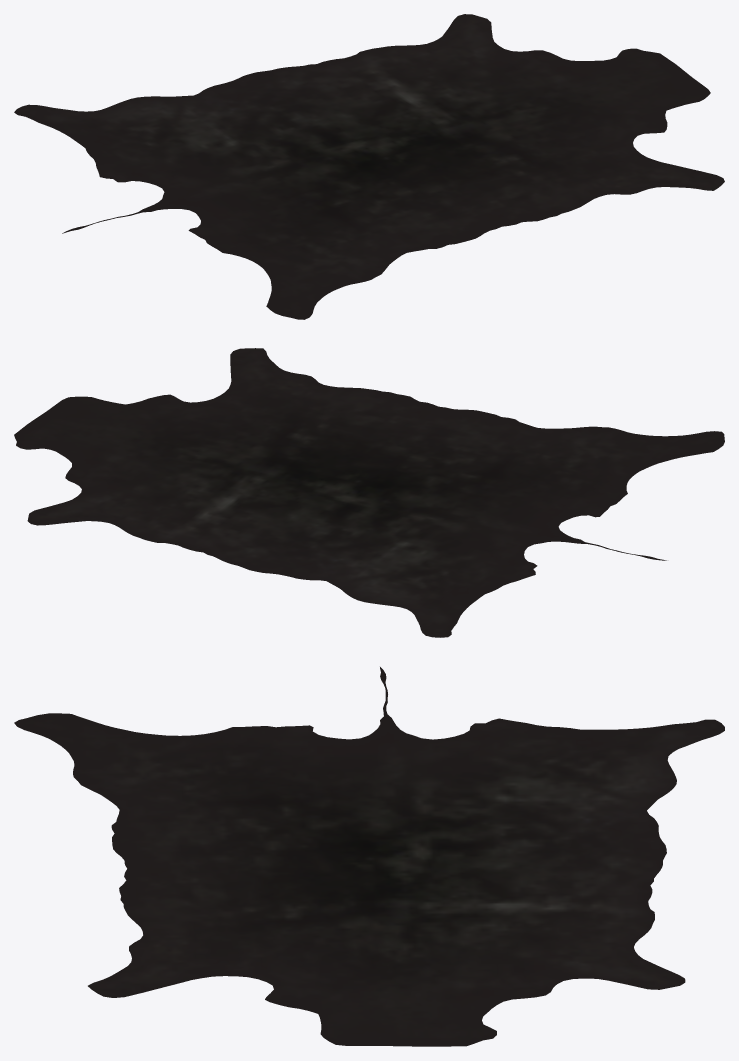
The model's file is SM_AnimalHide6.fbx.
The picture shows the model from 3 angles, top to bottom: view 1: azimuth 30°, elevation 25°; view 2: azimuth 150°, elevation 25°; view 3: azimuth 270°, elevation 25°; orthographic projection. The views are drawn at different scales.
Parts seen in each view (by area): view 1: SM_AnimalHide6_LOD0; view 2: SM_AnimalHide6_LOD0; view 3: SM_AnimalHide6_LOD0.
Boxes of the visible parts, box(x1,y1,x2,y2) form: SM_AnimalHide6_LOD0: box(14, 14, 724, 319); SM_AnimalHide6_LOD0: box(14, 348, 724, 637); SM_AnimalHide6_LOD0: box(14, 667, 724, 1046).
Bounding box in the file's own units: 171 × 135 × 1.91e-06.
Materials: 1 (1 with a texture image).
